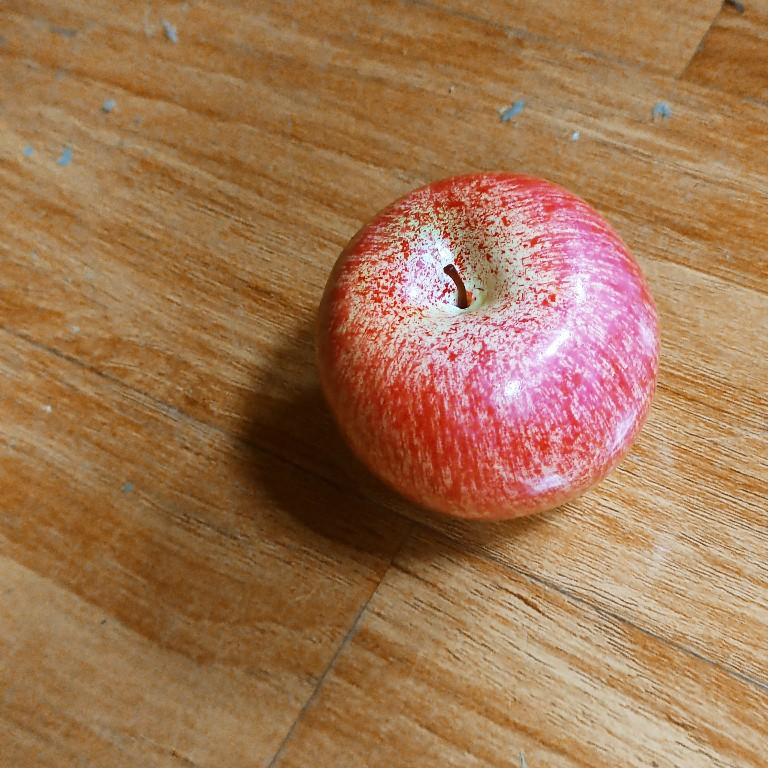fruit_apple: (308, 165, 668, 526)
